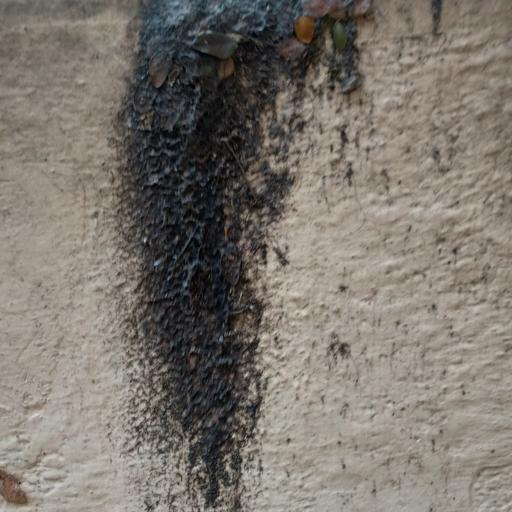stain: (94, 0, 391, 512)
